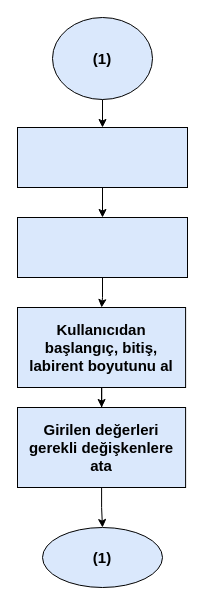
The diagram is 205 pixels wide and 605 high, and some of its shapes have lost their labels. The centre of each missing label's shape, as x and y in pixels:
Form sayfası için ayarlara atama yap: the point at 102,157
Form sayfasını ekranda göster: the point at 102,247
